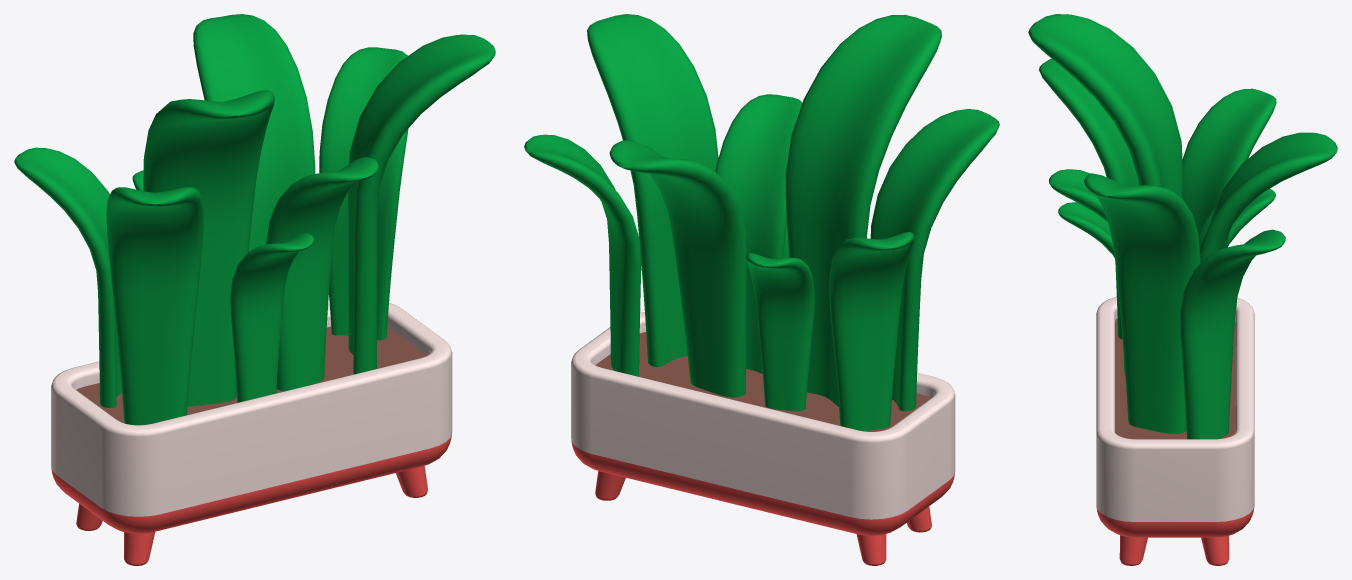
The model's file is City_11_Plant_1.glb.
3 renders of one model, left to right at view 1: azimuth 30°, elevation 25°; view 2: azimuth 150°, elevation 25°; view 3: azimuth 270°, elevation 25°, orthographic. The views are drawn at different scales.
Parts seen in each view (by area): view 1: City_11_Plant_1; view 2: City_11_Plant_1; view 3: City_11_Plant_1.
Boxes of the visible parts, bbox=[...] form: City_11_Plant_1: bbox=[14, 14, 495, 565]; City_11_Plant_1: bbox=[524, 14, 999, 565]; City_11_Plant_1: bbox=[1028, 14, 1337, 565].
Size of the model in its own units: 1.21 by 1.39 by 0.8917.
1 material, 1 textured.
